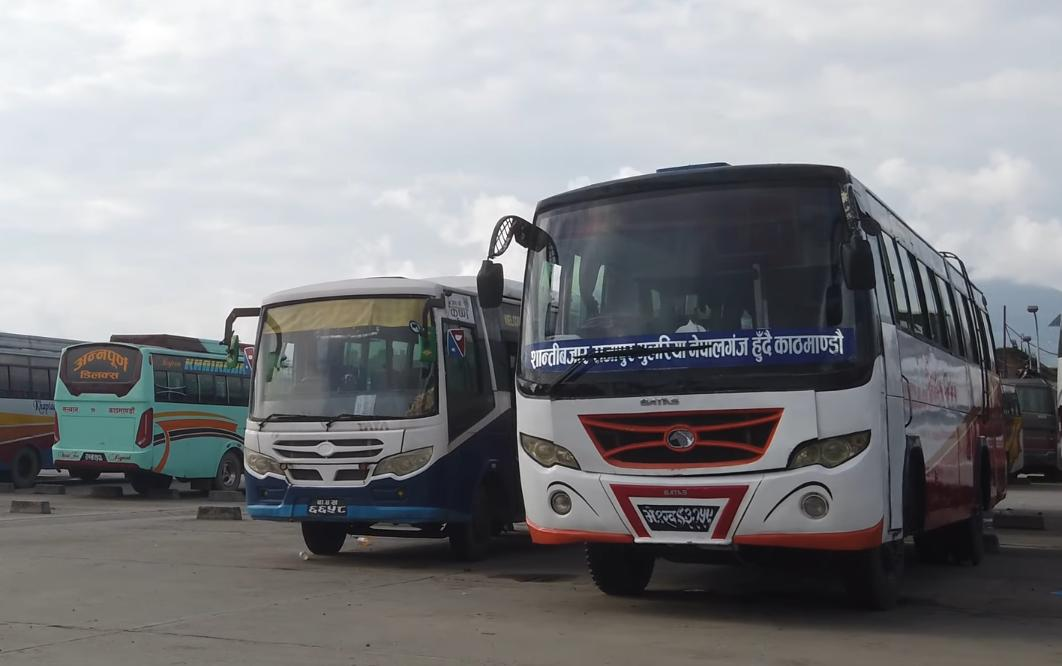bus: (475, 149, 1007, 605), (219, 264, 542, 563)
